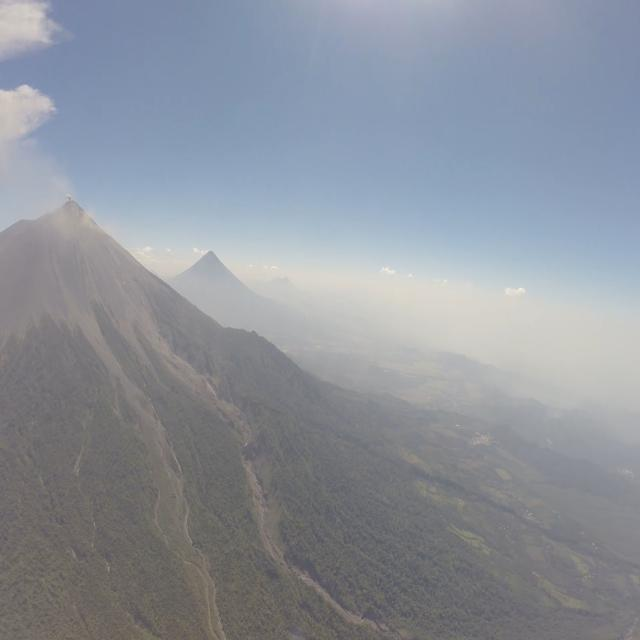Plume: (0, 0, 75, 161), (65, 190, 73, 203)
Summit: (43, 200, 90, 224)
